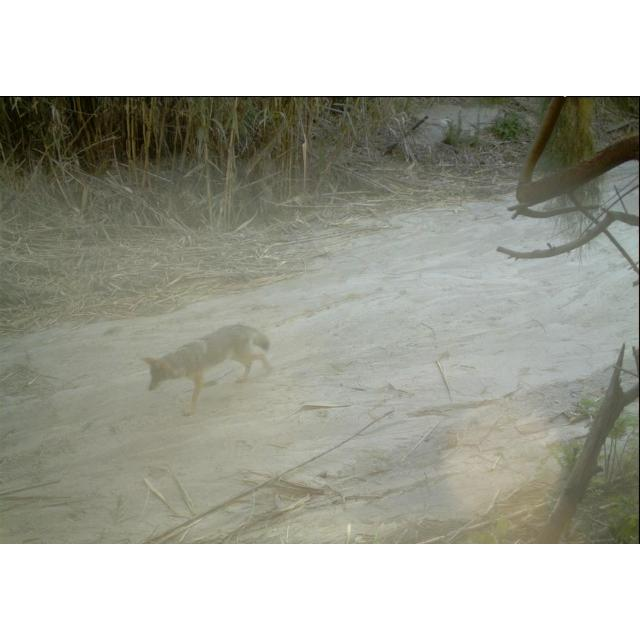animals: (140, 320, 280, 418)
